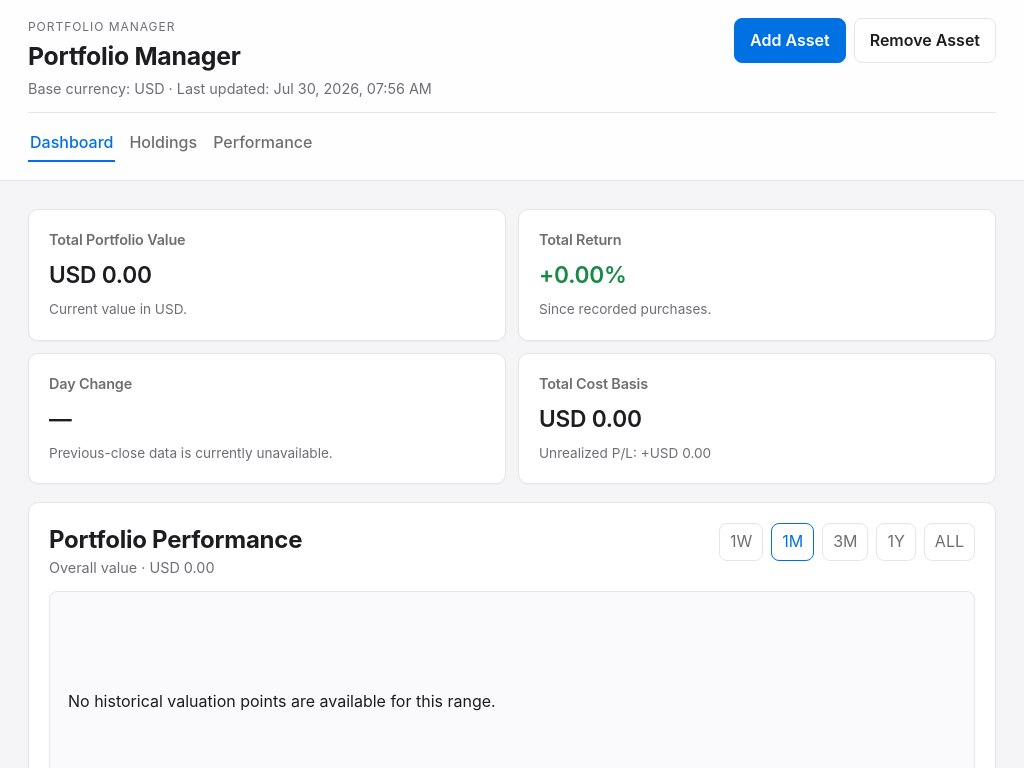
Test: Portfolio Manager frontend › aggregates repeated symbols into one active row
This screenshot has width=1024, height=768.
Click the link "Holdings": (163, 142) [130, 132, 197, 152]
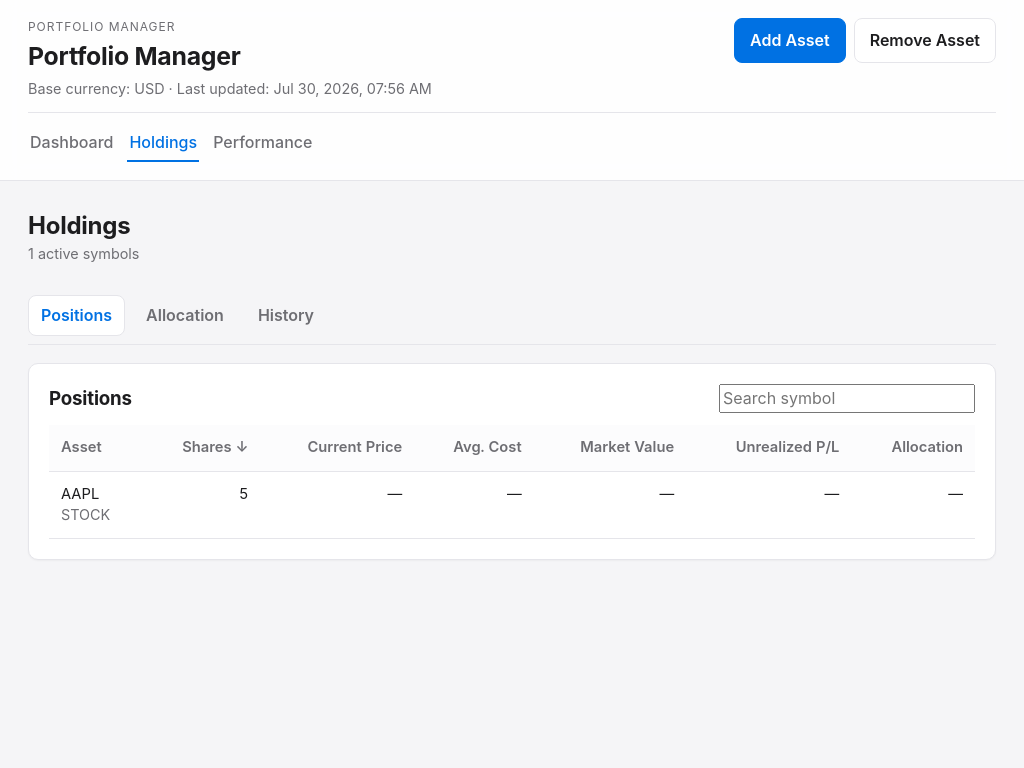
Expected: the text "5" is shown, [144, 471, 260, 538]
Expected: the text "AAPL" is shown once, [61, 485, 99, 503]
